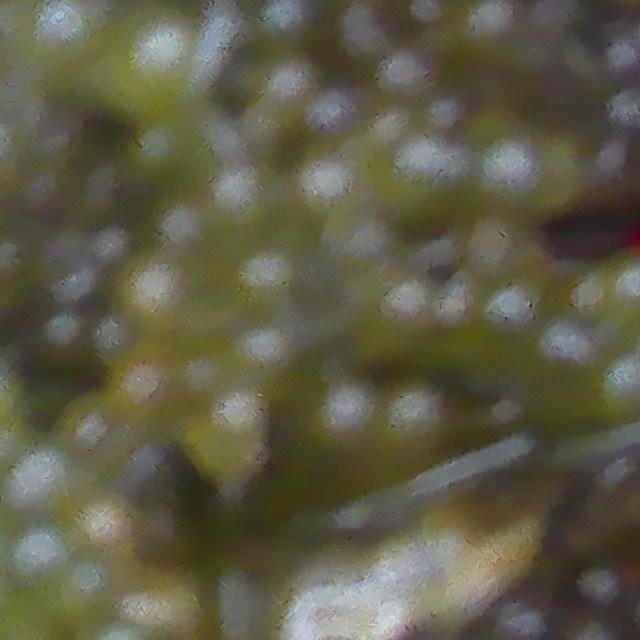SeaGrape: (9, 446, 76, 512), (11, 526, 66, 582), (591, 44, 640, 86), (605, 83, 640, 137), (506, 589, 541, 634)
